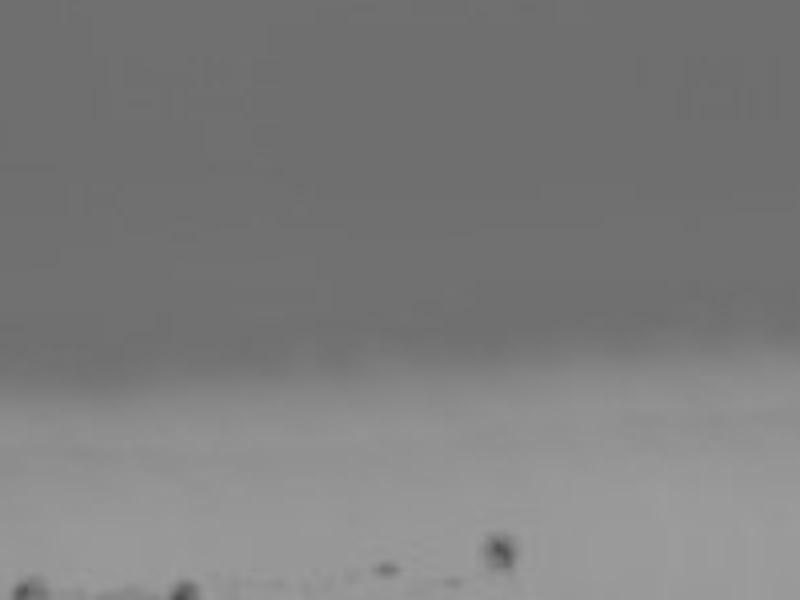defect: (480, 533, 519, 570), (13, 573, 48, 600), (167, 580, 197, 600), (371, 561, 402, 580), (443, 572, 464, 593)
